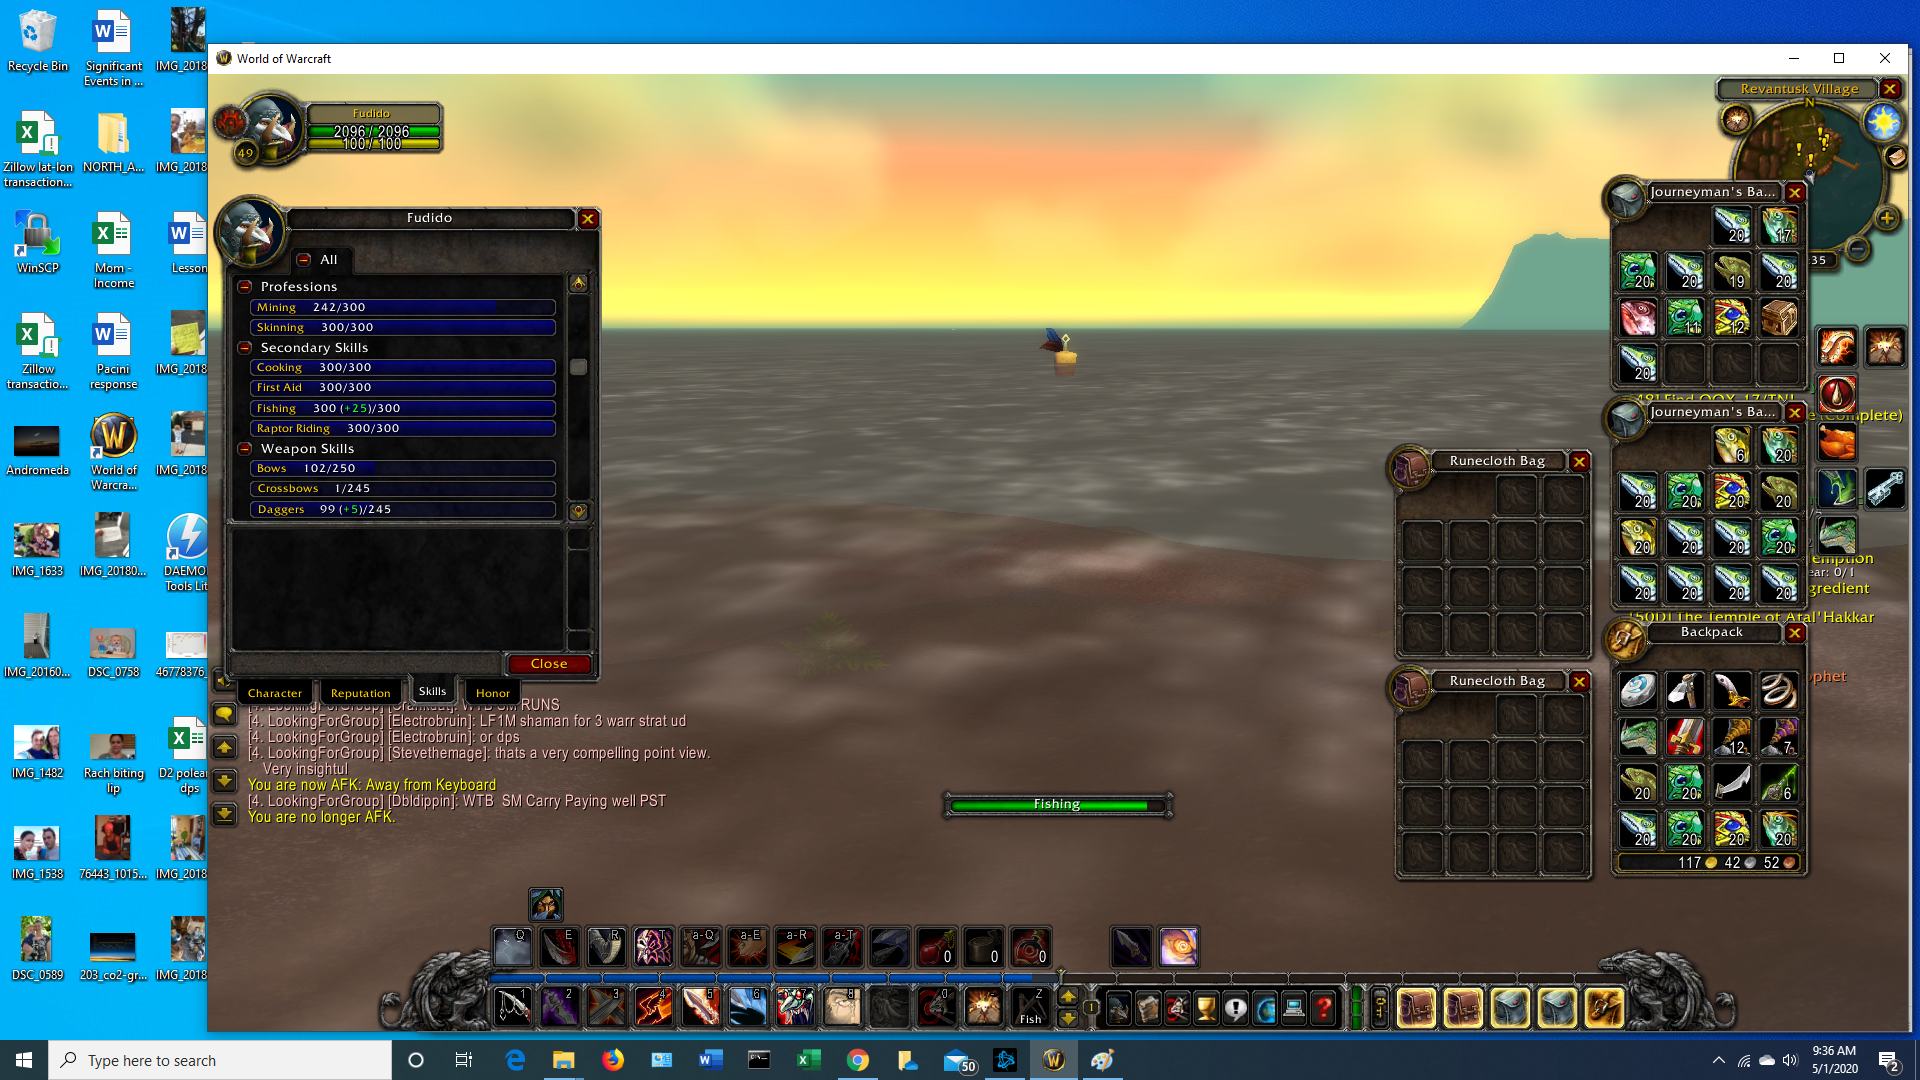bobble: (1039, 322, 1085, 381)
